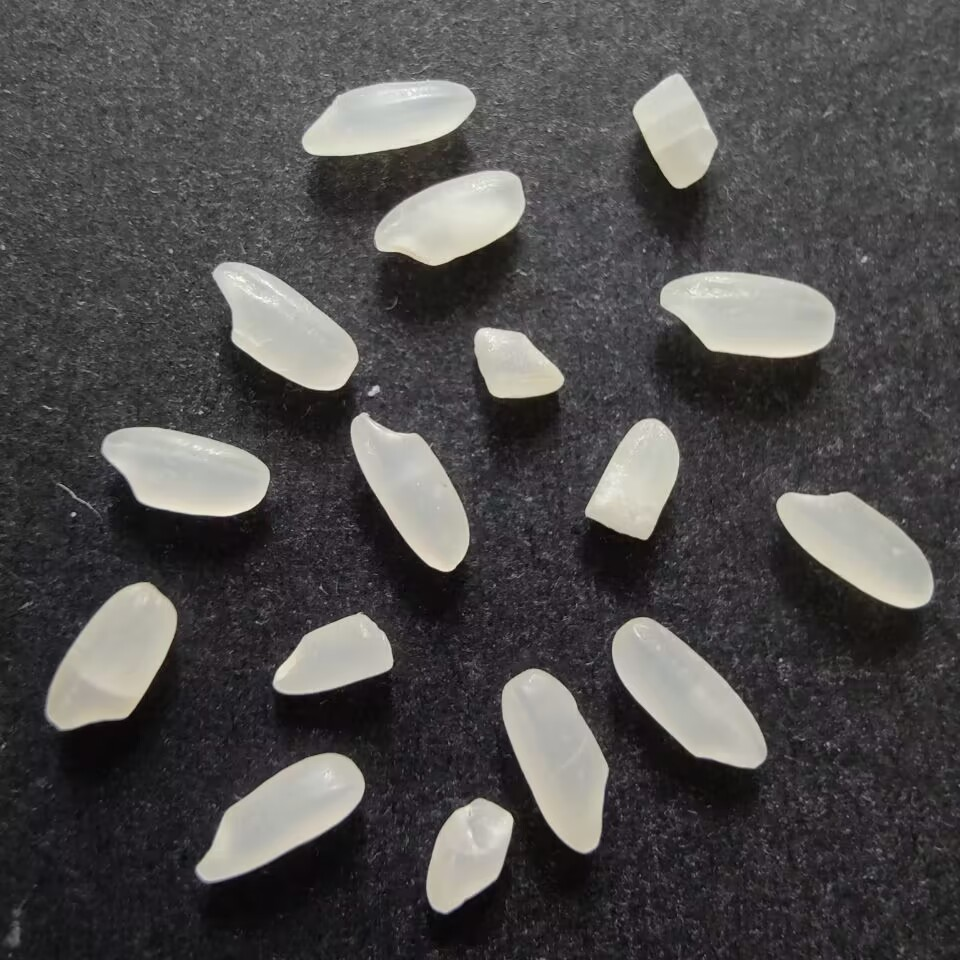broken: (578, 411, 682, 544), (422, 794, 520, 920), (628, 70, 725, 192), (268, 607, 397, 698), (470, 324, 568, 402)
rice: (190, 751, 369, 888), (610, 617, 768, 772), (498, 669, 615, 858), (42, 578, 180, 735), (206, 259, 363, 396), (346, 411, 477, 575), (773, 486, 937, 616), (656, 267, 839, 362), (96, 427, 273, 520), (369, 169, 526, 266), (296, 77, 481, 159)
